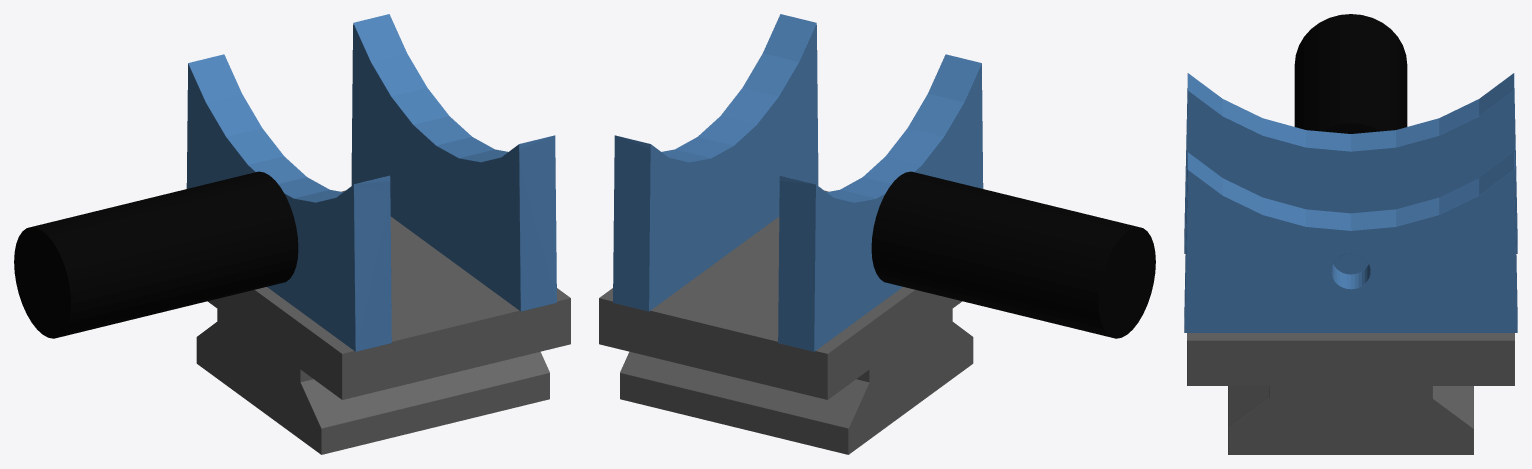
File: VIS_Prism1MidSlider.dae
3 renders of one model, left to right at view 1: azimuth 30°, elevation 25°; view 2: azimuth 150°, elevation 25°; view 3: azimuth 270°, elevation 25°, orthographic.
Visible parts, largest first — view 1: VIS_Prism1MidSlider; view 2: VIS_Prism1MidSlider; view 3: VIS_Prism1MidSlider.
Boxes of the visible parts, x1=… form: VIS_Prism1MidSlider: x1=14, y1=14, x2=570, y2=454; VIS_Prism1MidSlider: x1=599, y1=14, x2=1155, y2=454; VIS_Prism1MidSlider: x1=1184, y1=14, x2=1517, y2=454.
Size of the model in its own units: 0.0979 by 0.0645 by 0.0594.
